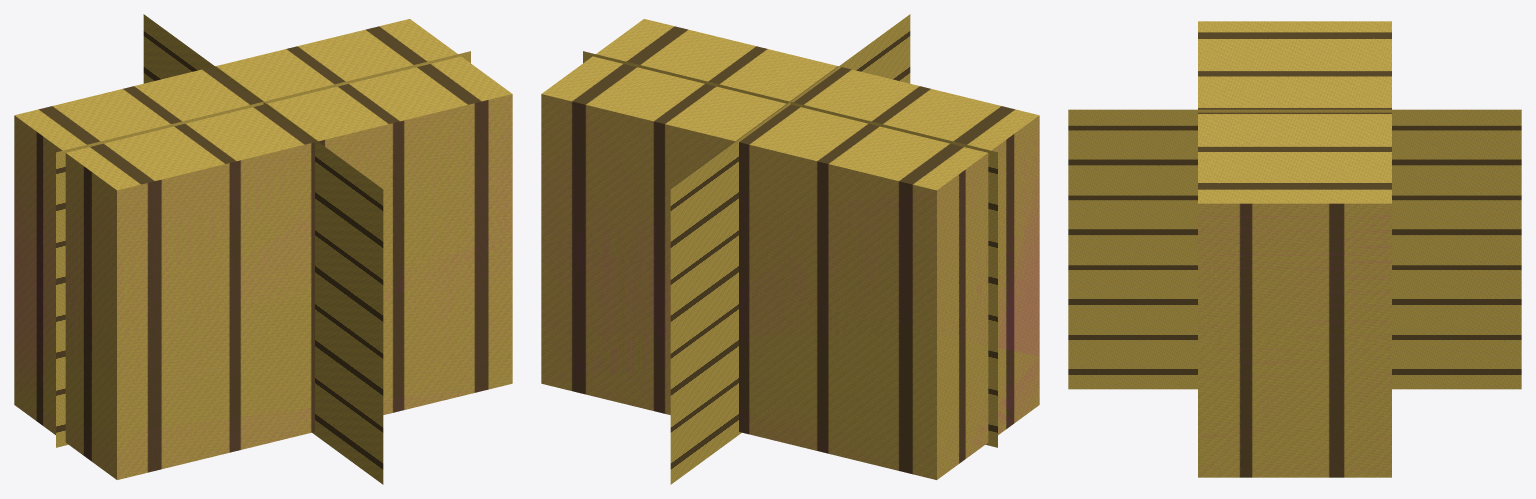
File: haybale_stack_2.dae
3 views of the same model, side by side, from view 1: azimuth 30°, elevation 25°; view 2: azimuth 150°, elevation 25°; view 3: azimuth 270°, elevation 25° (orthographic). The views are drawn at different scales.
Parts seen in each view (by area): view 1: haybale_stack_2_a800, haybale_stack_2_a50, haybale_stack_2_a200, Colmesh_stack-1; view 2: haybale_stack_2_a800, haybale_stack_2_a50, haybale_stack_2_a200, Colmesh_stack-1; view 3: haybale_stack_2_a800, haybale_stack_2_a50, haybale_stack_2_a200.
Part boxes in pixels (x1,y1,x2,y2): haybale_stack_2_a800: (14, 19, 512, 479); haybale_stack_2_a50: (56, 14, 470, 484); haybale_stack_2_a200: (14, 239, 512, 431); Colmesh_stack-1: (15, 200, 79, 361); haybale_stack_2_a800: (541, 19, 1039, 479); haybale_stack_2_a50: (583, 14, 997, 484); haybale_stack_2_a200: (544, 335, 1039, 479); Colmesh_stack-1: (581, 183, 1038, 417); haybale_stack_2_a800: (1198, 21, 1391, 477); haybale_stack_2_a50: (1068, 109, 1521, 389); haybale_stack_2_a200: (1198, 341, 1382, 477).
Size of the model in its own units: 1.05 by 1.05 by 0.714.
2 materials, 1 textured.
